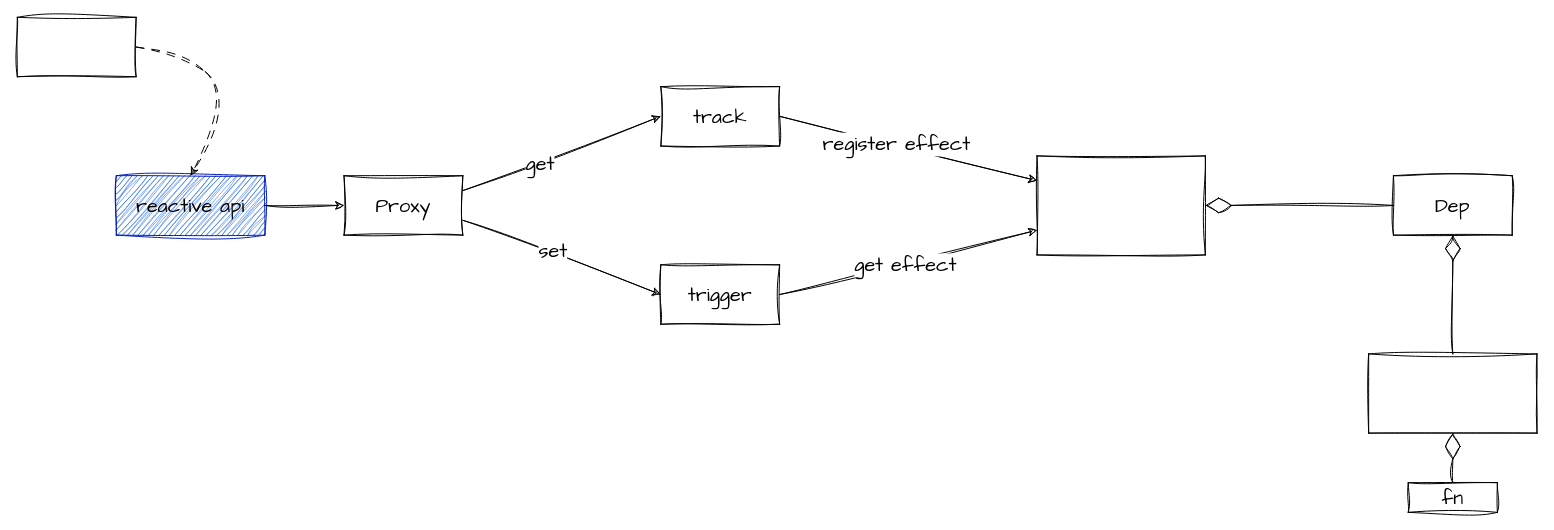
Some shapes in this 1554 by 530 pixel diagram are drawn without their labels. The shapes that lost their labels are listed below. From the top down, each one's centre as x and y in pixels, then its label:
point (76, 46): target
point (1120, 205): targetMap
point (1452, 393): ReactiveEffect
